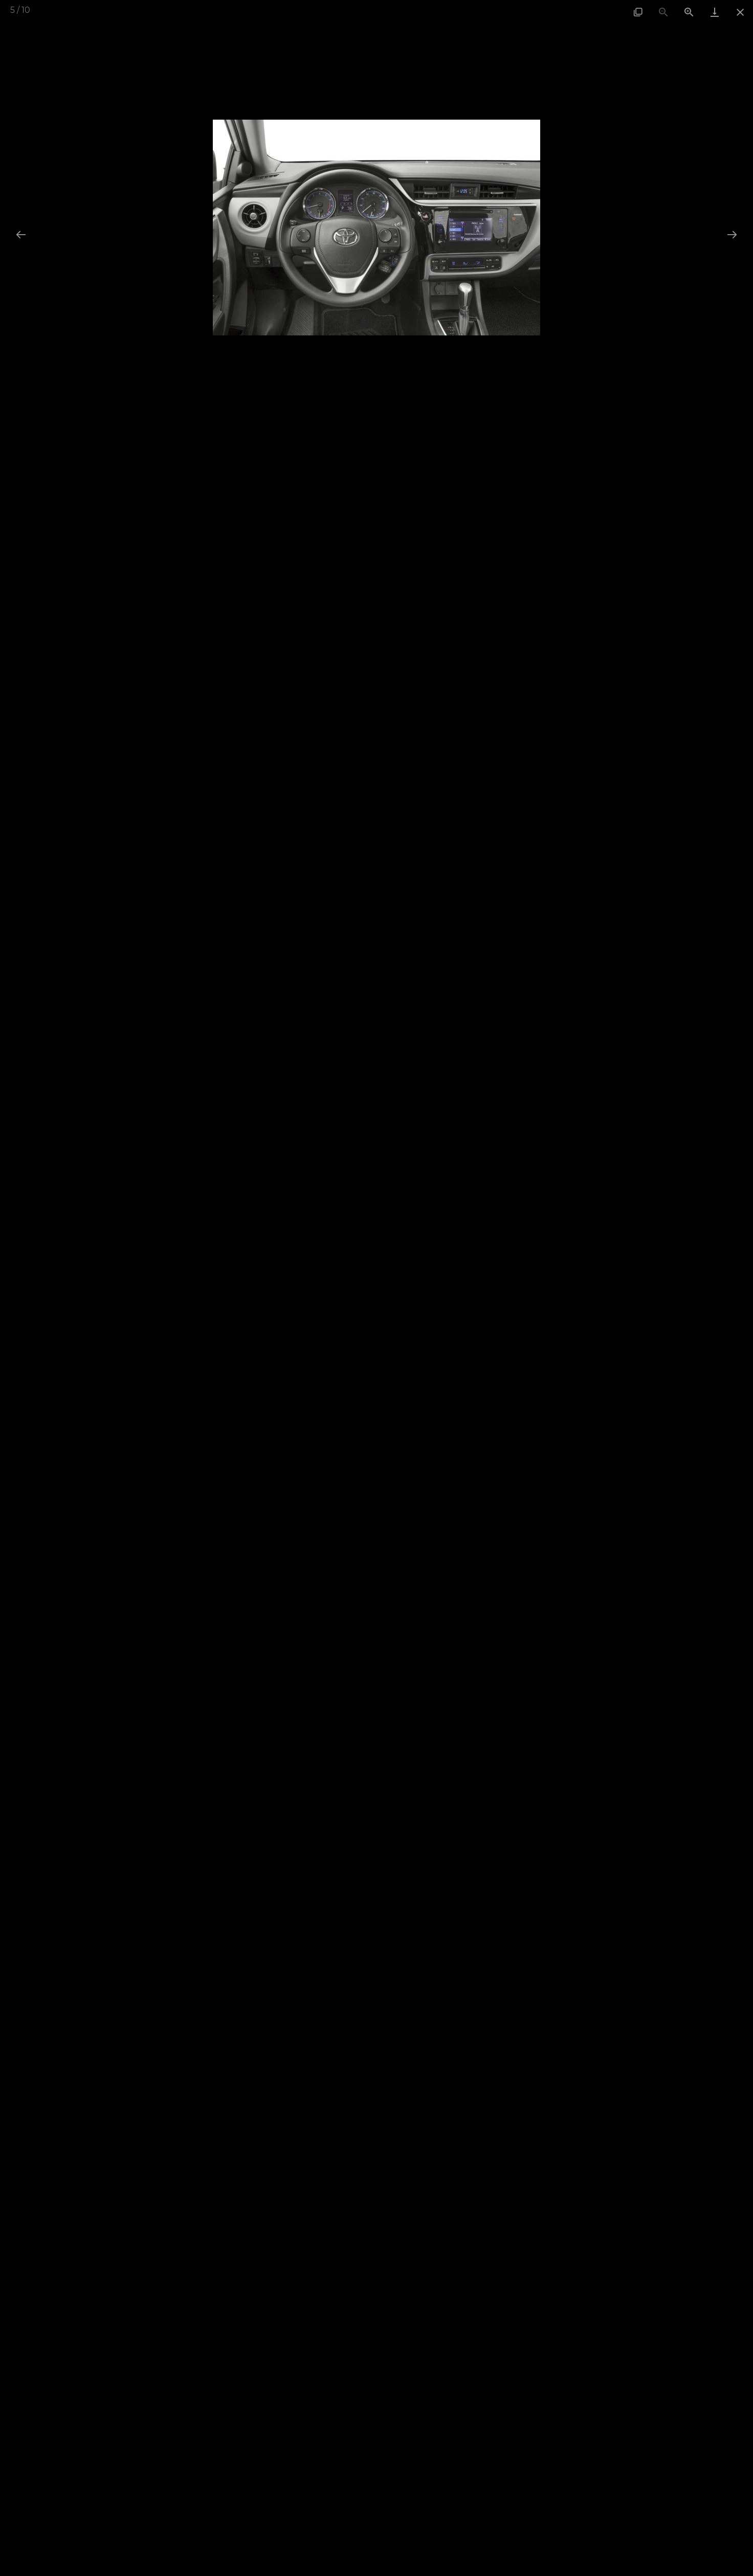car: (727, 232, 737, 240)
